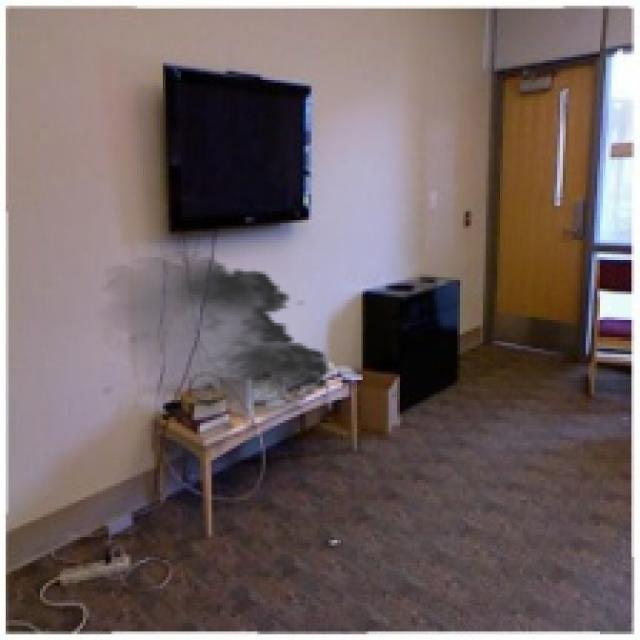smoke: (89, 251, 340, 460)
